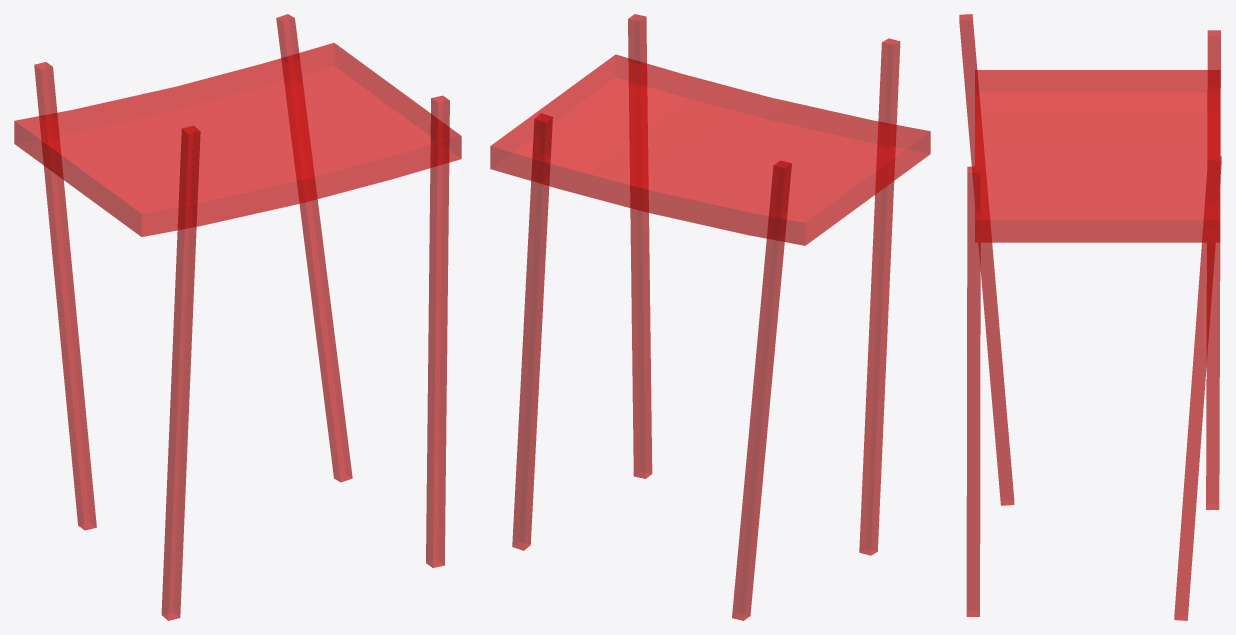
The model's file is SM_Bld_Rickety_Dock_Platform_02_Collision.fbx.
3 renders of one model, left to right at view 1: azimuth 30°, elevation 25°; view 2: azimuth 150°, elevation 25°; view 3: azimuth 270°, elevation 25°, orthographic. The views are drawn at different scales.
Parts seen in each view (by area): view 1: SM_Bld_Rickety_Dock_Platform_02_Collision; view 2: SM_Bld_Rickety_Dock_Platform_02_Collision; view 3: SM_Bld_Rickety_Dock_Platform_02_Collision.
Part boxes in pixels (x1,y1,x2,y2): SM_Bld_Rickety_Dock_Platform_02_Collision: [14, 14, 461, 620]; SM_Bld_Rickety_Dock_Platform_02_Collision: [490, 14, 930, 620]; SM_Bld_Rickety_Dock_Platform_02_Collision: [959, 14, 1221, 620].
Size of the model in its own units: 570 by 858 by 420.
